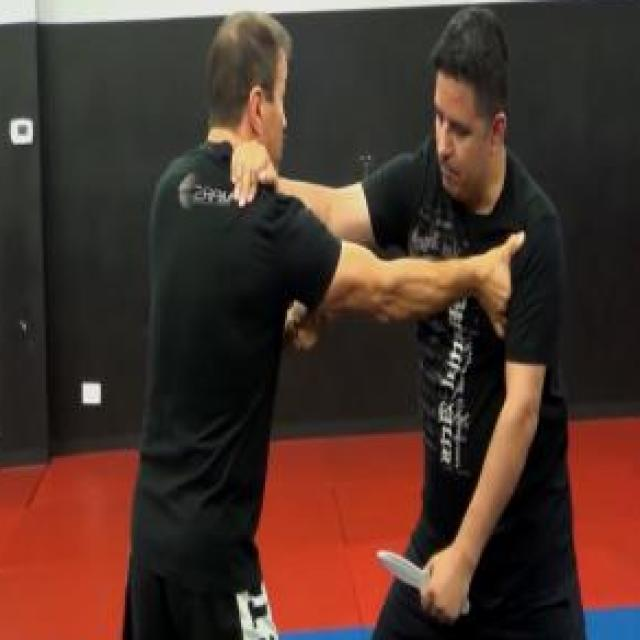knife: (372, 539, 473, 623)
